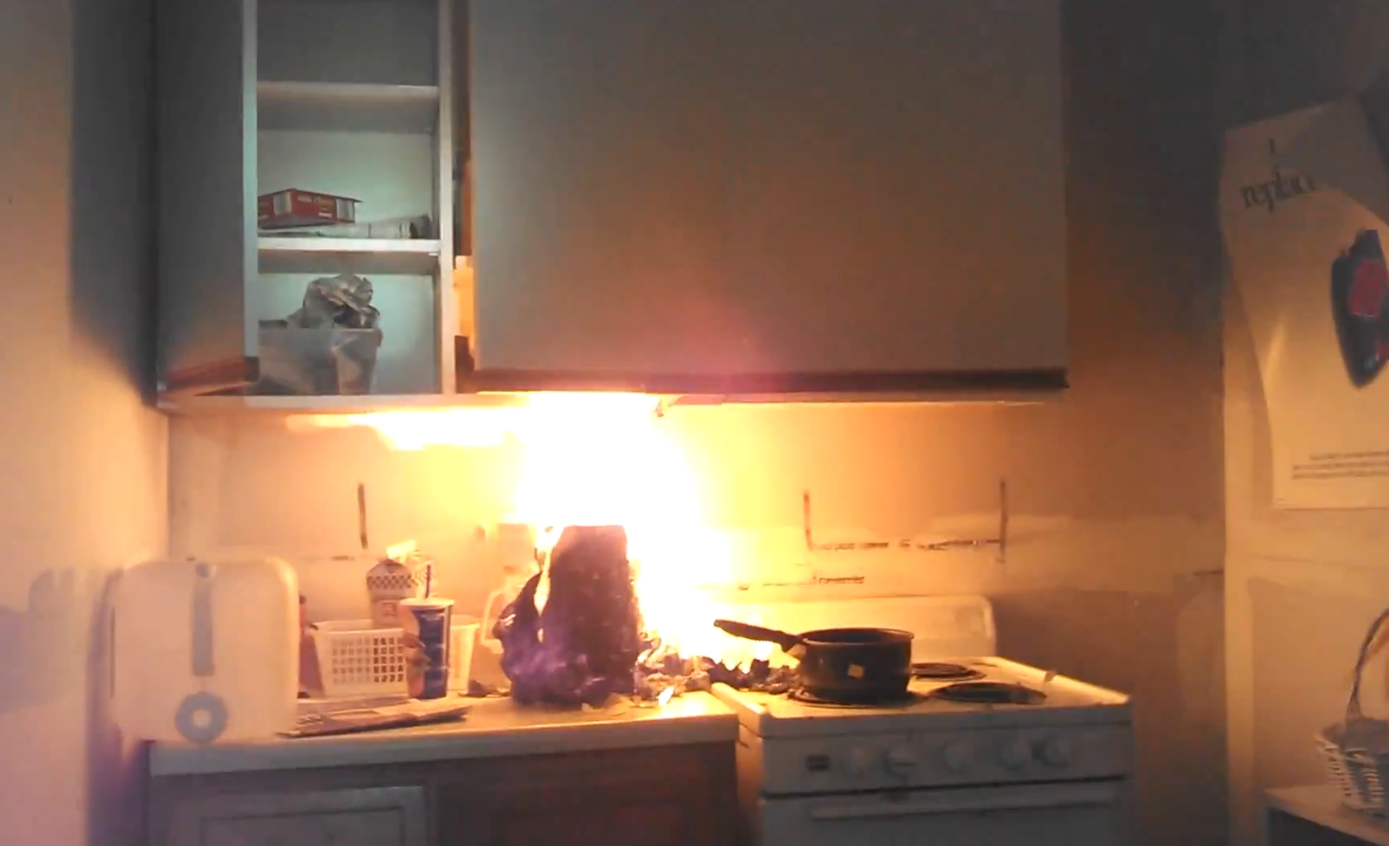Fire: (312, 346, 959, 730)
